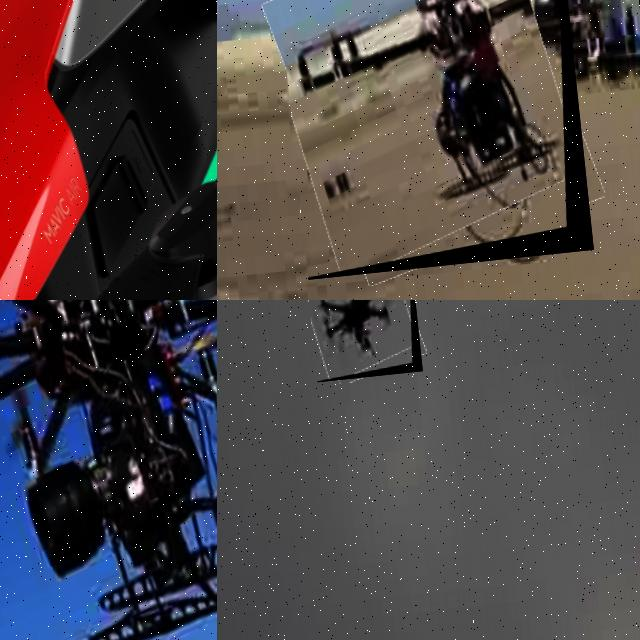drone: (273, 0, 593, 279), (0, 300, 217, 640), (0, 0, 217, 300), (303, 300, 422, 381)
